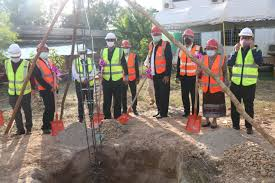arm: (160, 41, 172, 83), (189, 43, 206, 69), (220, 54, 232, 88)
face: (182, 33, 195, 44), (242, 35, 254, 46), (104, 37, 116, 47)
footwear: (200, 114, 214, 127), (243, 121, 255, 134), (11, 126, 25, 136), (39, 124, 51, 134), (229, 120, 241, 130), (154, 111, 167, 118), (130, 107, 140, 115), (179, 109, 189, 116)
glove: (160, 73, 169, 85), (122, 78, 131, 88), (173, 73, 181, 82)
helmet: (5, 41, 23, 59), (149, 24, 163, 38), (204, 37, 219, 49), (239, 26, 254, 37), (103, 30, 117, 41)
human: (229, 24, 266, 133), (198, 34, 234, 128), (0, 39, 34, 134), (96, 29, 130, 120), (29, 39, 59, 135), (173, 26, 202, 119), (145, 26, 172, 118)
leg: (195, 83, 217, 128), (239, 83, 258, 135), (153, 76, 169, 119), (38, 90, 53, 134), (10, 96, 26, 136), (101, 80, 114, 119), (128, 79, 141, 116), (117, 80, 130, 117), (178, 77, 190, 117)
noglove: (11, 97, 21, 112)
nohelmet: (181, 27, 196, 41), (204, 37, 219, 49)
vest: (3, 58, 33, 96), (232, 43, 259, 84), (99, 45, 127, 81), (31, 56, 55, 91), (203, 53, 223, 88), (177, 44, 199, 75), (148, 40, 168, 73), (124, 50, 138, 82)
